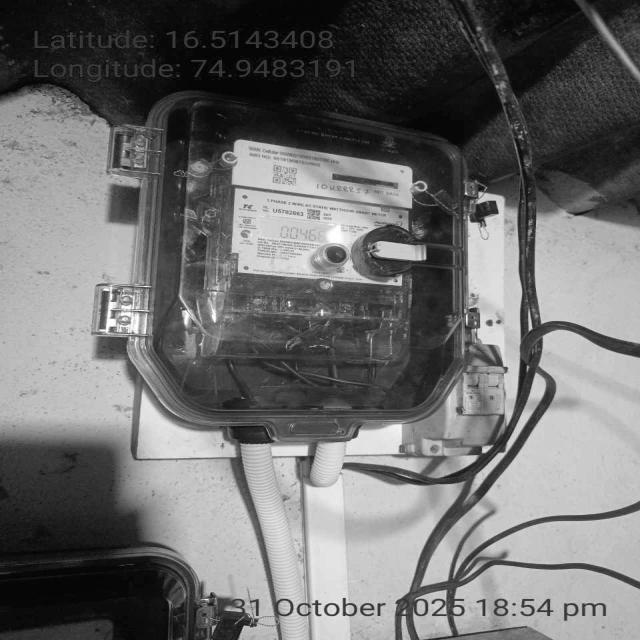meter: (229, 135, 425, 287)
